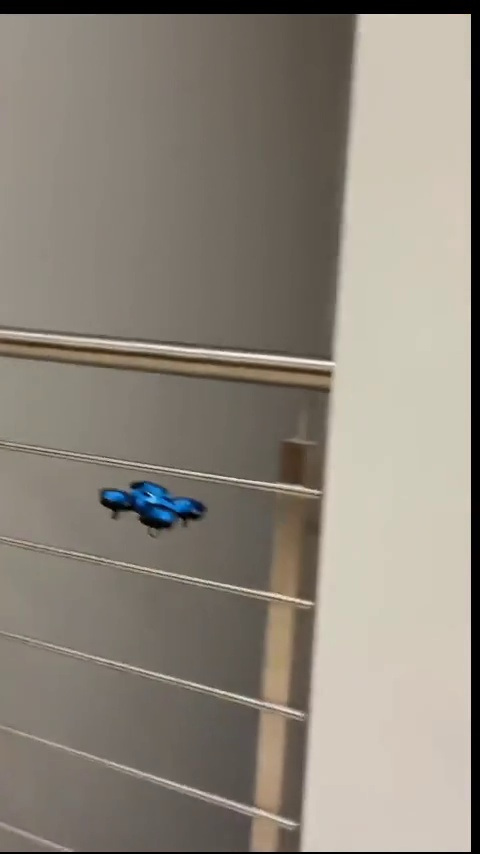drone: (105, 479, 204, 531)
